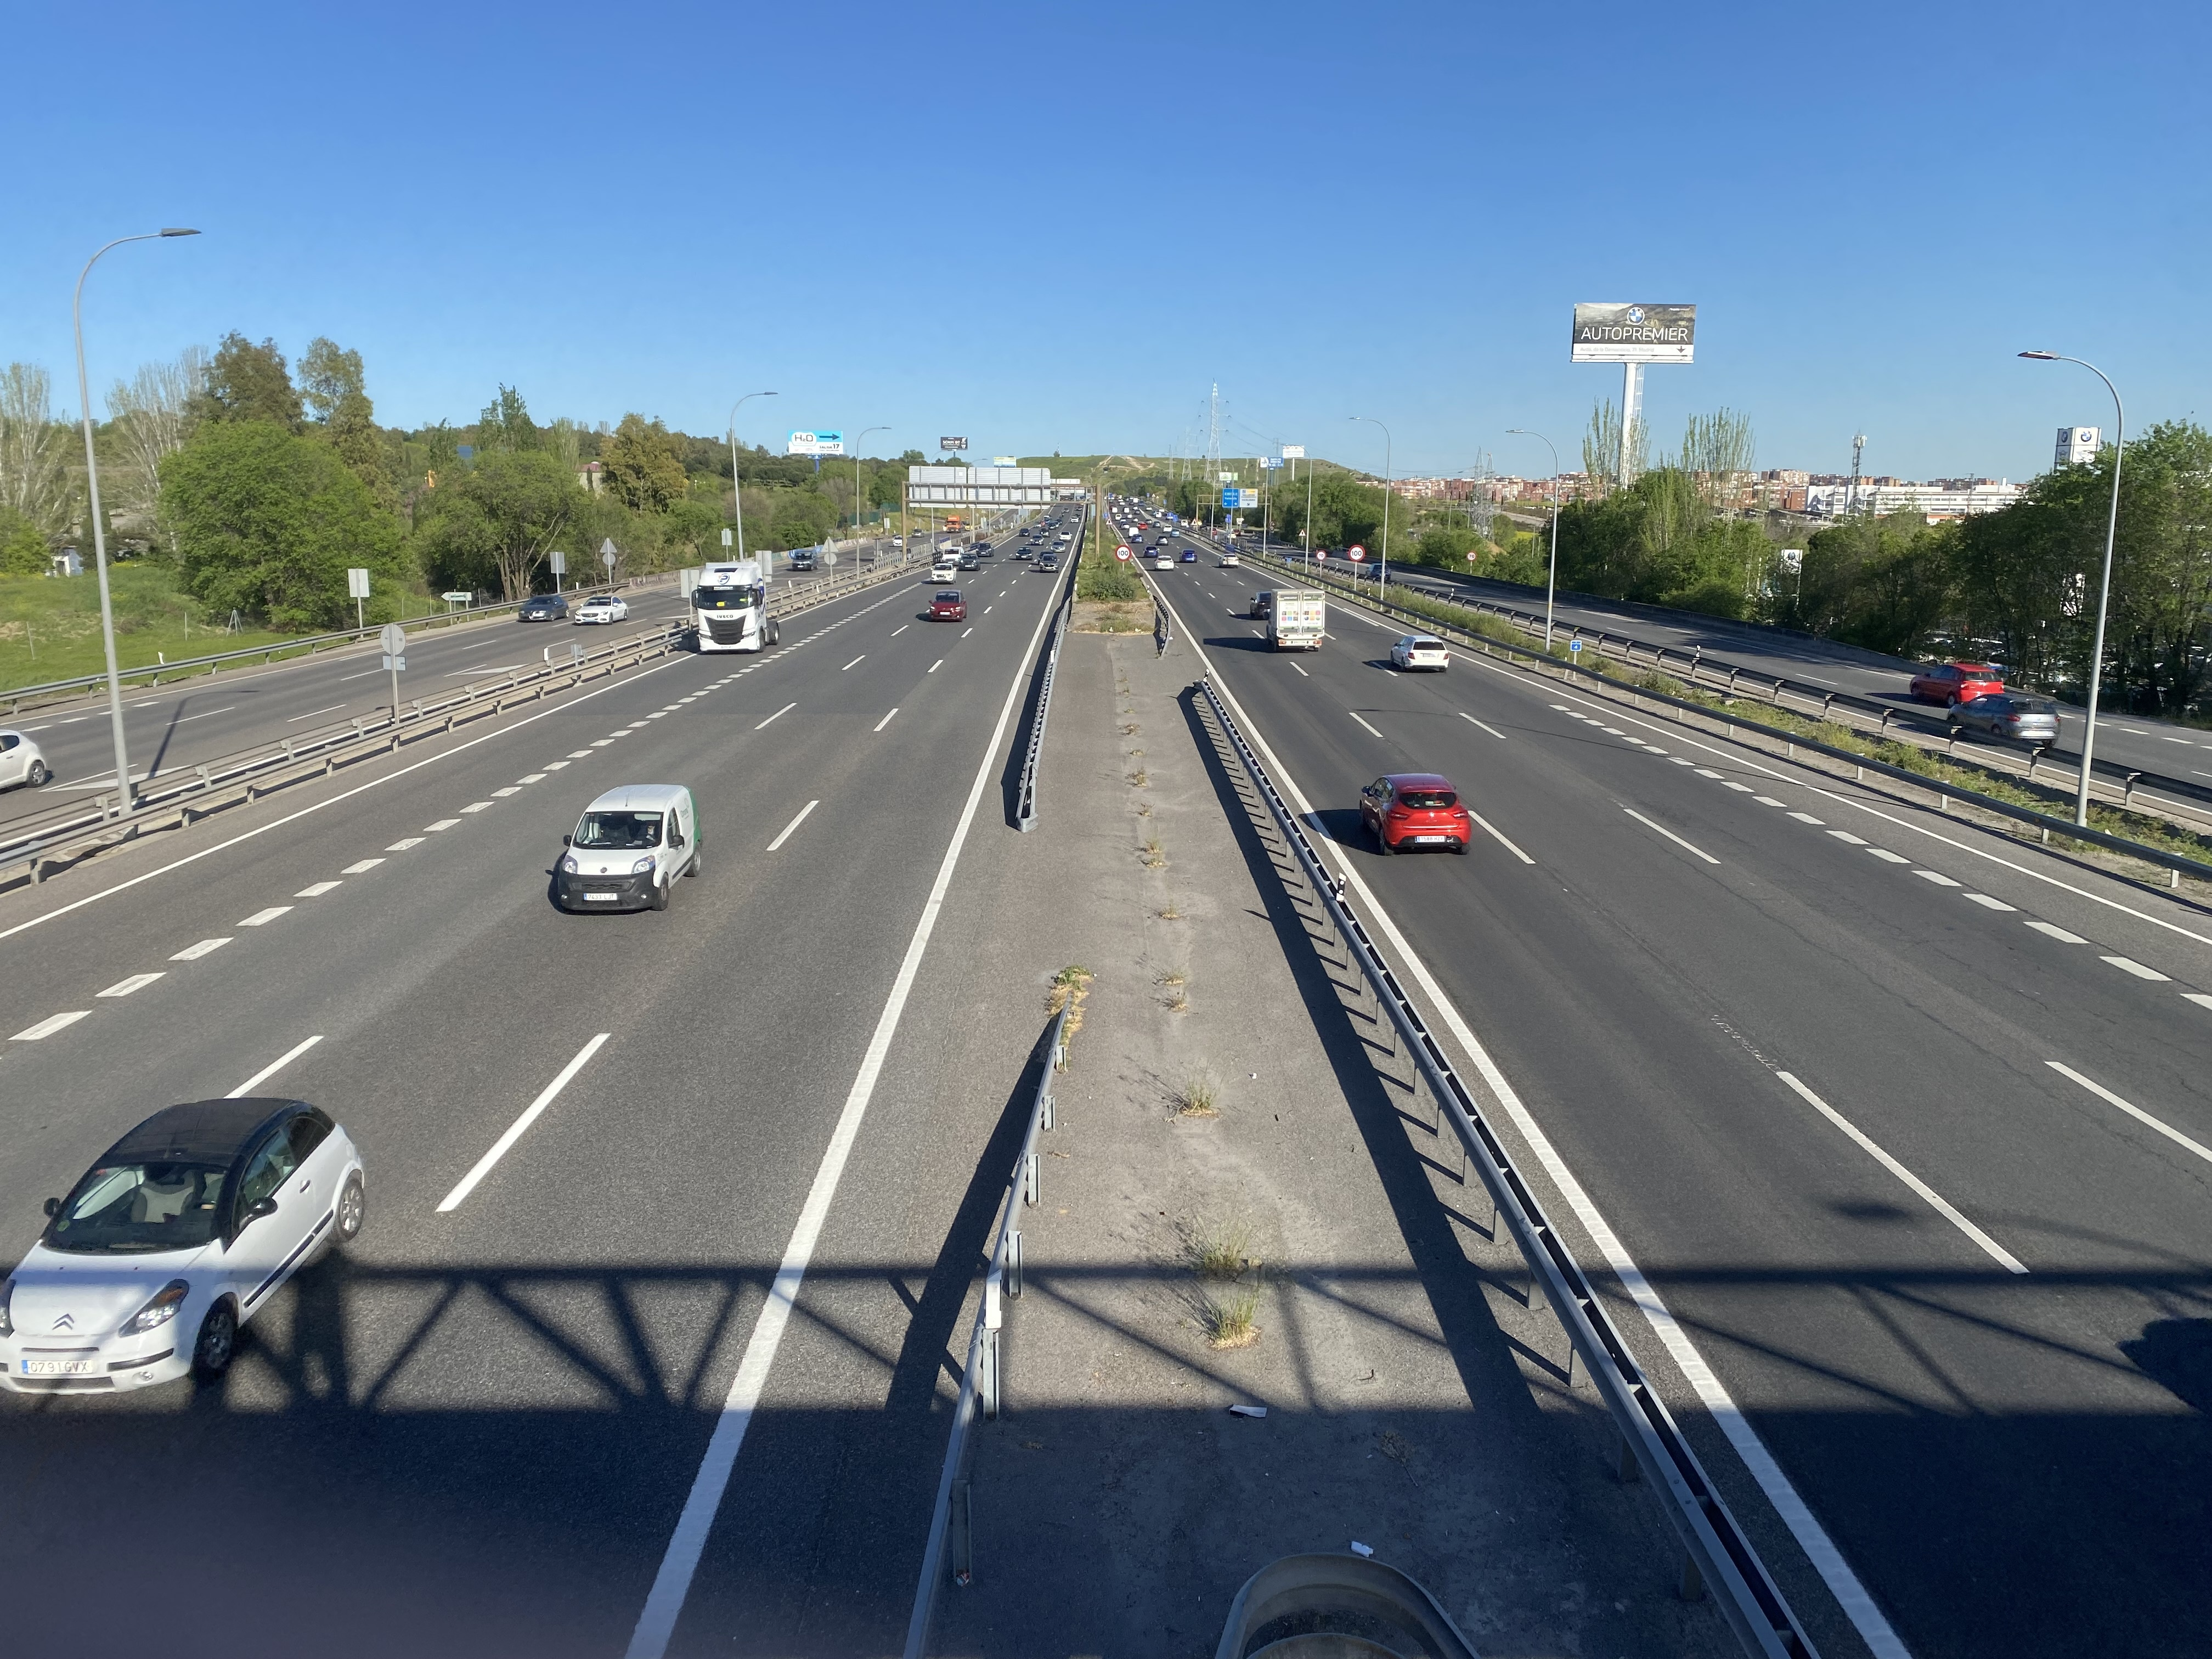cars: (0, 1098, 364, 1392), (549, 784, 702, 910), (1360, 774, 1470, 854), (1947, 692, 2059, 748), (1909, 662, 2003, 706), (1390, 633, 1449, 671), (575, 594, 627, 626), (519, 592, 568, 622), (927, 589, 965, 622), (789, 547, 819, 572), (1249, 591, 1271, 619), (1033, 549, 1059, 572), (930, 566, 956, 584), (1014, 544, 1033, 559), (1217, 554, 1238, 568), (1181, 547, 1197, 563)
